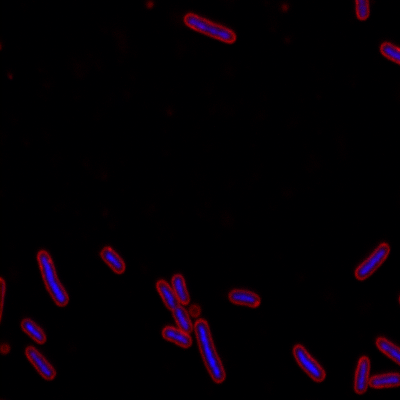Rifampicin: (194, 317, 233, 385), (154, 277, 193, 334), (36, 250, 70, 308), (182, 10, 238, 44), (353, 241, 392, 282), (291, 343, 326, 384), (23, 343, 58, 381), (160, 324, 193, 352), (97, 244, 126, 275), (353, 352, 372, 396), (226, 286, 262, 309), (20, 316, 48, 345), (170, 273, 191, 306)
Vesicle: (188, 303, 204, 318), (279, 0, 294, 13), (143, 0, 157, 12)
